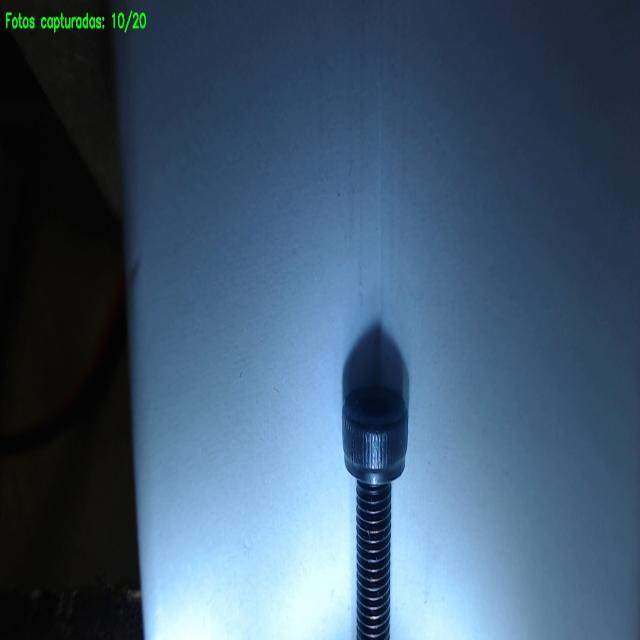vastago: (356, 481, 390, 639)
